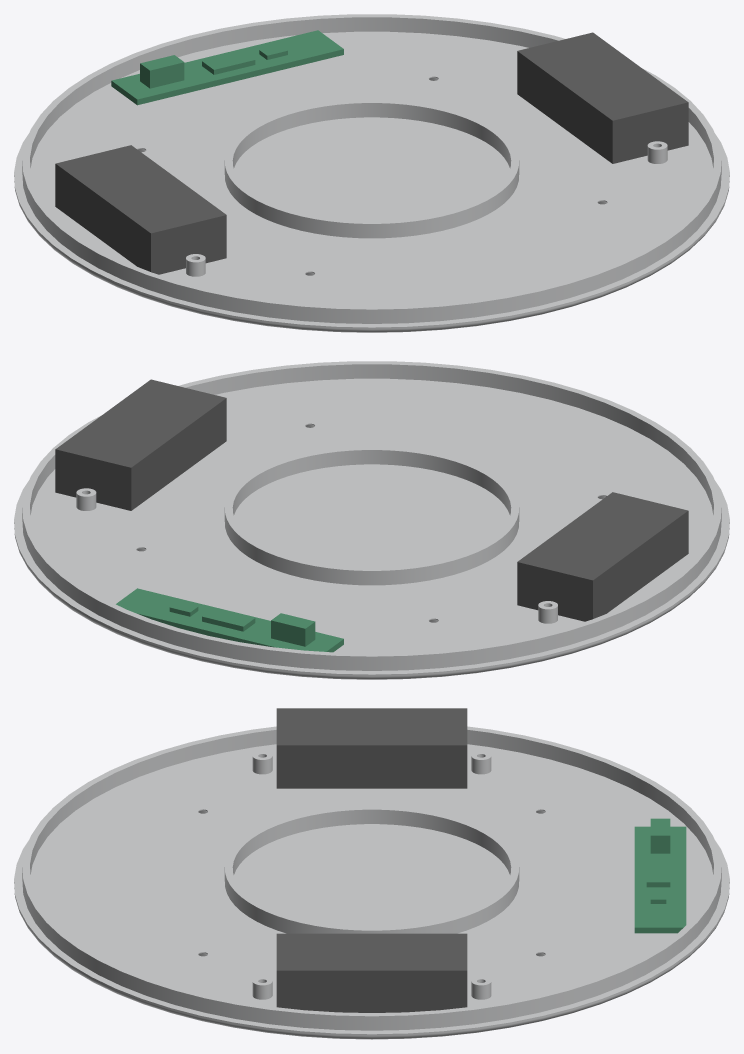
File: step_02.glb
The picture shows the model from 3 angles, top to bottom: view 1: azimuth 30°, elevation 25°; view 2: azimuth 150°, elevation 25°; view 3: azimuth 270°, elevation 25°; orthographic projection.
Visible parts, largest first — view 1: part__bottom cover, part__battery holder, right, part__battery holder, left, part__main circuit board; view 2: part__bottom cover, part__battery holder, right, part__battery holder, left, part__main circuit board; view 3: part__bottom cover, part__battery holder, left, part__battery holder, right, part__main circuit board.
Boxes of the visible parts, <box> form: part__bottom cover: <box>14,14,729,332</box>; part__battery holder, right: <box>517,32,688,163</box>; part__battery holder, left: <box>55,145,226,274</box>; part__main circuit board: <box>111,30,343,105</box>; part__bottom cover: <box>14,361,729,679</box>; part__battery holder, right: <box>55,379,226,510</box>; part__battery holder, left: <box>517,492,688,621</box>; part__main circuit board: <box>116,588,343,652</box>; part__bottom cover: <box>14,726,729,1039</box>; part__battery holder, left: <box>276,708,467,788</box>; part__battery holder, right: <box>276,933,467,1012</box>; part__main circuit board: <box>634,818,686,933</box>.
Size of the model in its own units: 180 by 17 by 180.
